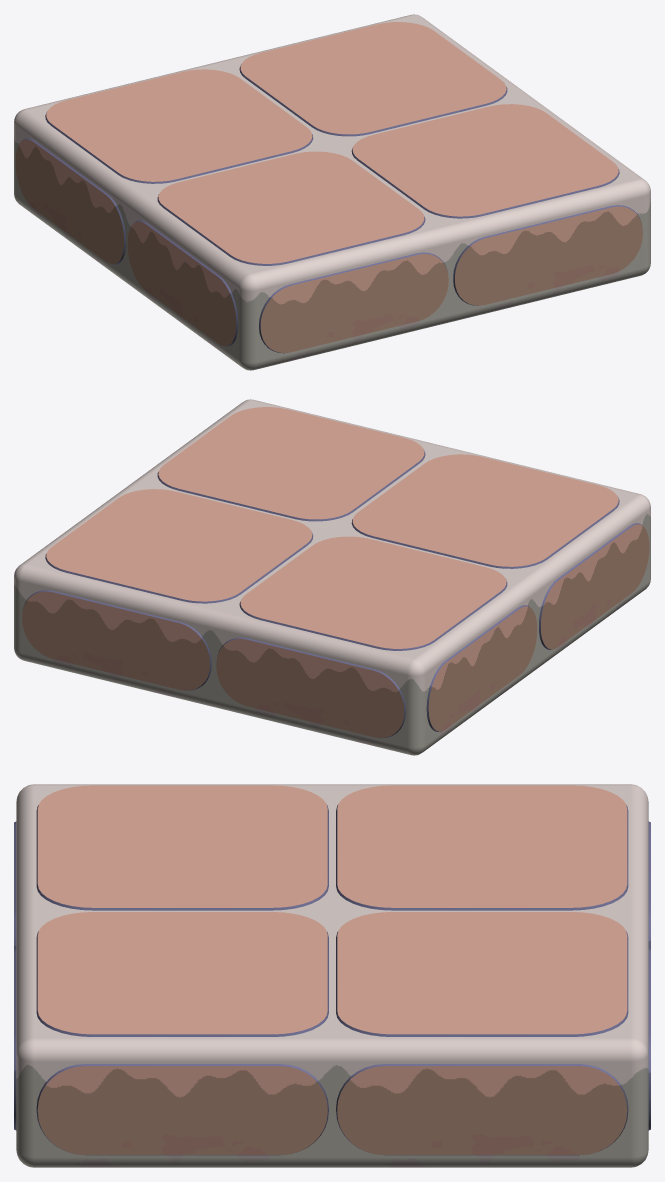
The model's file is R4B_Plate2x2.glb.
The picture shows the model from 3 angles, top to bottom: view 1: azimuth 30°, elevation 25°; view 2: azimuth 150°, elevation 25°; view 3: azimuth 270°, elevation 25°; orthographic projection. The views are drawn at different scales.
Visible parts, largest first — view 1: R4B_Plate2x2; view 2: R4B_Plate2x2; view 3: R4B_Plate2x2.
Boxes of the visible parts, <box> form: R4B_Plate2x2: <box>14,14,650,370</box>; R4B_Plate2x2: <box>14,399,650,755</box>; R4B_Plate2x2: <box>14,784,650,1167</box>.
Size of the model in its own units: 1.07 by 0.245 by 1.07.
3 materials, 3 textured.
